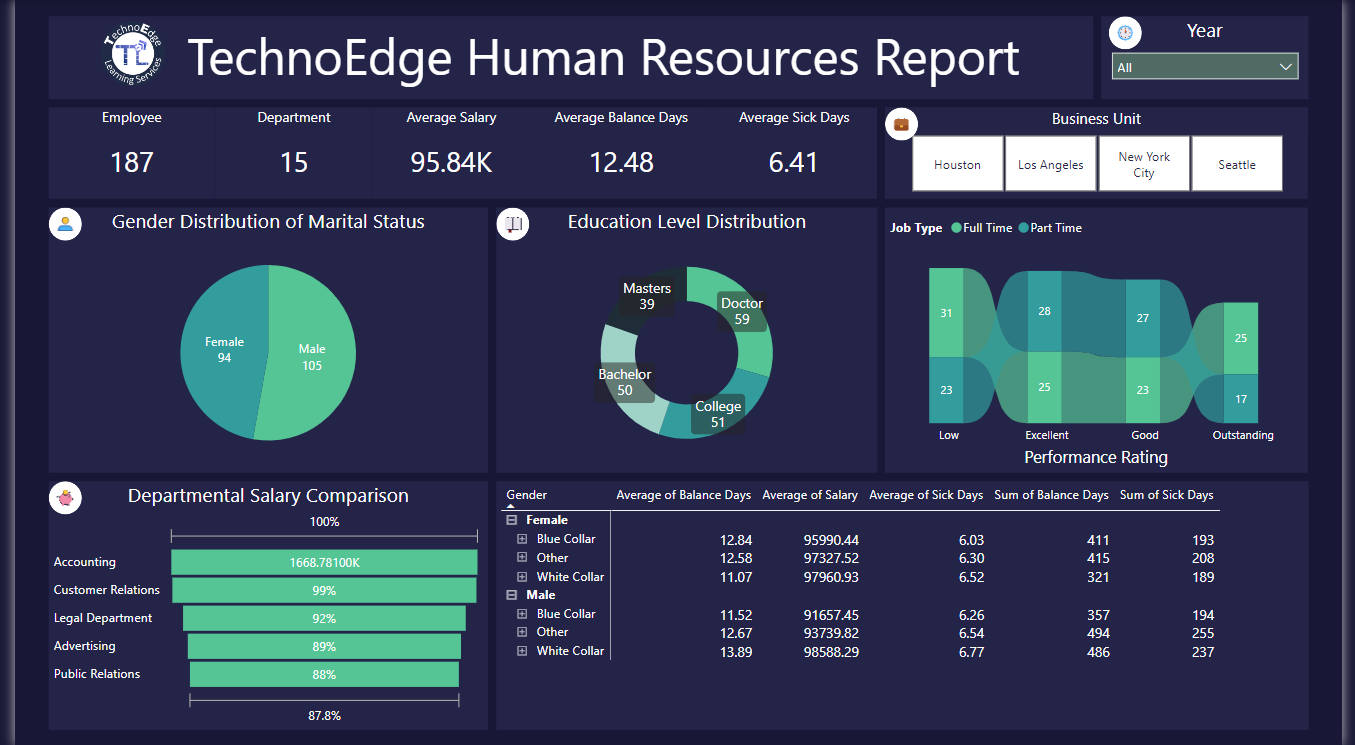

The page's visual inventory and layout, read from the dashboard file:
{"tool":"powerbi","page":{"name":"HR-Domain","canvas":[1280,720],"ordinal":0},"visuals":[{"type":"textbox","box":[32,16,1008,80],"z":0},{"type":"image","box":[32,16,160,72],"z":1000},{"type":"slicer","title":"Business Unit ","fields":{"Values":["Company Details.Business Unit"]},"box":[840,104,408,88],"z":2000},{"type":"card","title":"Average Salary ","fields":{"Values":["Avg(Company Details.Salary)"]},"box":[344,104,152,88],"z":3000,"group":"g1"},{"type":"pieChart","title":"Gender Distribution of Marital Status","fields":{"Y":["CountNonNull(Company Details.Marital Status)"],"Category":["Company Details.Gender"]},"box":[32,200,424,256],"z":3000},{"type":"card","title":"Average Balance Days","fields":{"Values":["Avg(Company Details.Balance Days)"]},"box":[496,104,176,88],"z":4000,"group":"g1"},{"type":"funnel","title":"Departmental Salary Comparison","fields":{"Category":["Company Details.Departmets"],"Y":["Sum(Company Details.Salary)"]},"box":[32,464,424,240],"z":4000},{"type":"card","title":"Average Sick Days","fields":{"Values":["Avg(Company Details.Sick Days)"]},"box":[672,104,160,88],"z":5000,"group":"g1"},{"type":"pivotTable","fields":{"Rows":["Company Details.Gender","Company Details.Job Classification","Company Details.WorkLife Balance"],"Values":["Avg(Company Details.Balance Days)","Avg(Company Details.Salary)","Avg(Company Details.Sick Days)","Sum(Company Details.Balance Days)1","Sum(Company Details.Sick Days)1"]},"box":[464,464,784,240],"z":5000},{"type":"card","title":" Employee","fields":{"Values":["Count(Company Details.Last Name)"]},"box":[32,104,160,88],"z":6000,"group":"g1"},{"type":"ribbonChart","fields":{"Category":["Company Details.Performance Rating"],"Y":["CountNonNull(Company Details.Job Involvement)"],"Series":["Company Details.Job Type"]},"box":[840,200,408,256],"z":6000},{"type":"card","title":"Department","fields":{"Values":["Count(Company Details.Departmets)"]},"box":[192,104,152,88],"z":7000,"group":"g1"},{"type":"slicer","title":"Year","fields":{"Values":["Company Details.Gender","Company Details.Year"]},"box":[1048,16,200,80],"z":7000},{"type":"donutChart","title":"Education Level Distribution","fields":{"Category":["Company Details.Education"],"Y":["CountNonNull(Company Details.EMP ID)"]},"box":[464,200,368,256],"z":8000},{"type":"actionButton","box":[1056,16,32,32],"z":9000},{"type":"group","id":"g1","title":"Group 1","box":[32,104,800,88],"z":10000},{"type":"actionButton","box":[32,200,32,32],"z":11000},{"type":"actionButton","box":[32,464,32,32],"z":12000},{"type":"actionButton","box":[464,200,32,32],"z":13000},{"type":"actionButton","box":[840,104,32,32],"z":14000}]}

Visuals, with their boxes in screenshot pixels (x1, y1, x2, y2), scaled from the page's 1280x720 canvas onto the 1355x745 screenshot:
textbox: locate(34, 17, 1101, 99)
image: locate(34, 17, 203, 91)
"Business Unit " slicer: locate(889, 108, 1321, 199)
"Average Salary " card: locate(364, 108, 525, 199)
"Gender Distribution of Marital Status" pieChart: locate(34, 207, 483, 472)
"Average Balance Days" card: locate(525, 108, 711, 199)
"Departmental Salary Comparison" funnel: locate(34, 480, 483, 728)
"Average Sick Days" card: locate(711, 108, 881, 199)
pivotTable - Company Details.Gender x Company Details.Job Classification: locate(491, 480, 1321, 728)
" Employee" card: locate(34, 108, 203, 199)
ribbonChart - Company Details.Performance Rating x CountNonNull(Company Details.Job Involvement): locate(889, 207, 1321, 472)
"Department" card: locate(203, 108, 364, 199)
"Year" slicer: locate(1109, 17, 1321, 99)
"Education Level Distribution" donutChart: locate(491, 207, 881, 472)
actionButton: locate(1118, 17, 1152, 50)
"Group 1" group: locate(34, 108, 881, 199)
actionButton: locate(34, 207, 68, 240)
actionButton: locate(34, 480, 68, 513)
actionButton: locate(491, 207, 525, 240)
actionButton: locate(889, 108, 923, 141)
